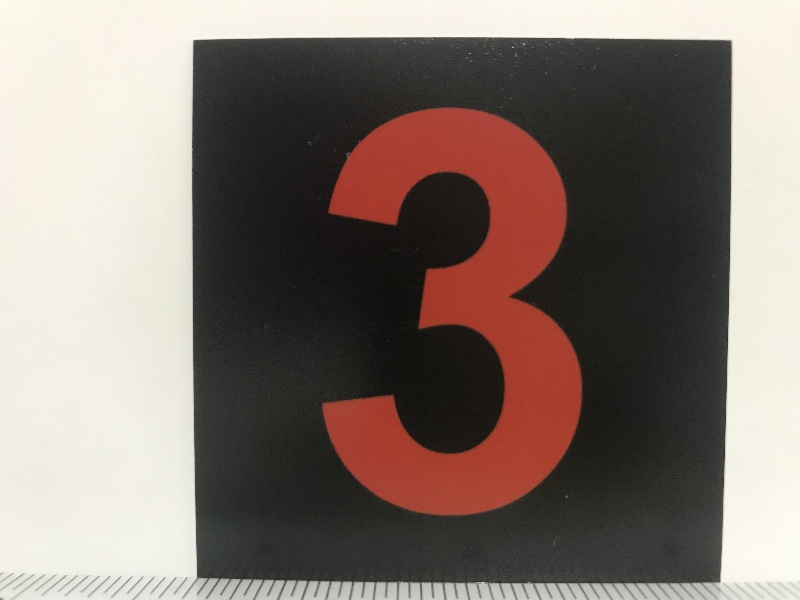Three-8: (201, 44, 719, 579)
